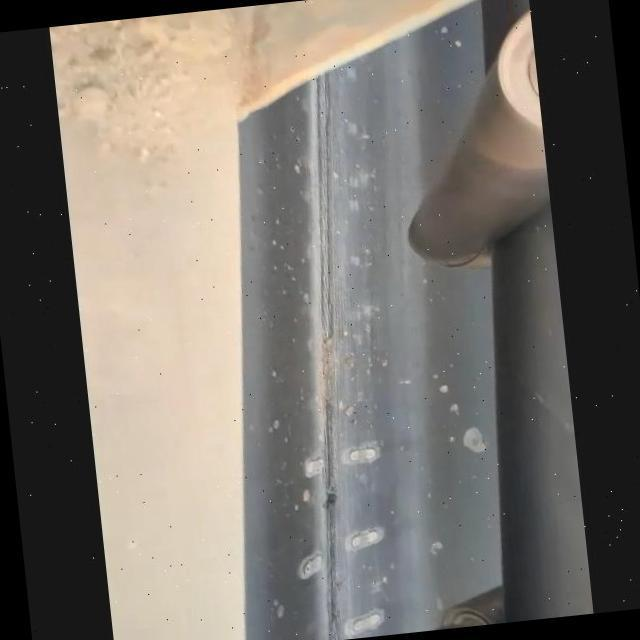Wear: (308, 75, 344, 640)
